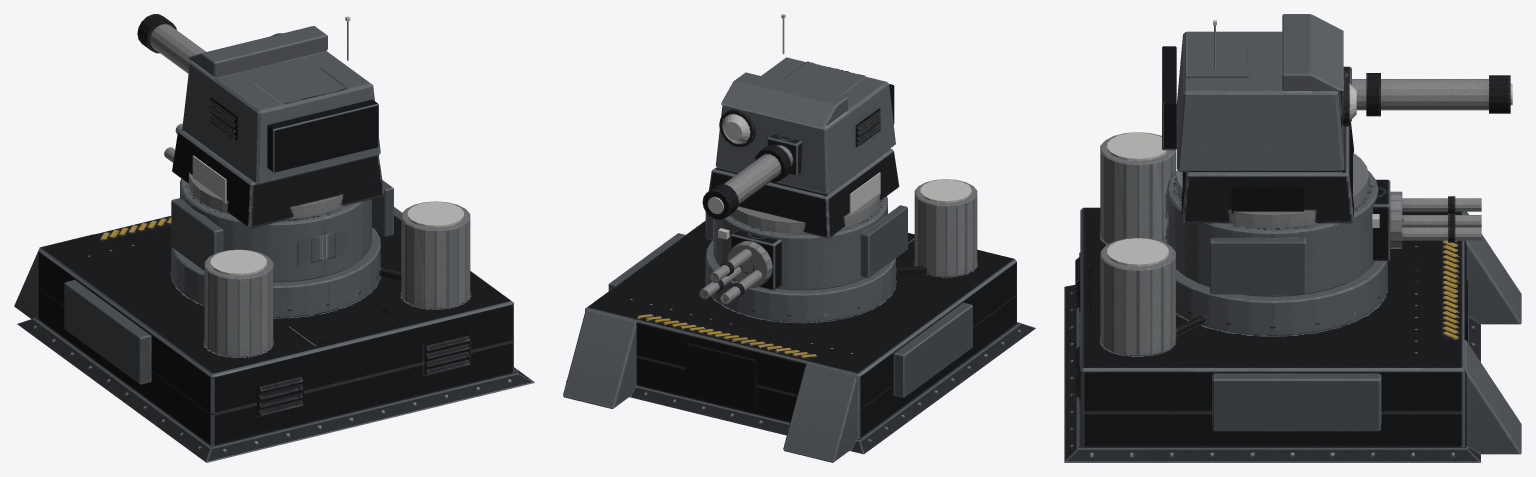
The model's file is chs_bulwark.fbx.
3 views of the same model, side by side, from view 1: azimuth 30°, elevation 25°; view 2: azimuth 150°, elevation 25°; view 3: azimuth 270°, elevation 25° (orthographic). The views are drawn at different scales.
Visible parts, largest first — view 1: base_bar, turret_bar, laser_bar, shell_bar, base_glow_power_bar, barrel_bar, shell_glow_running_bar; view 2: base_bar, turret_bar, laser_bar, shell_bar, barrel_bar, laser_drum_bar, laser_mount_bar, base_glow_power_bar, shell_glow_running_bar, turret_glow_power_bar; view 3: base_bar, turret_bar, laser_bar, shell_bar, barrel_bar, laser_drum_bar, base_glow_power_bar, laser_mount_bar.
Boxes of the visible parts, bbox=[...] form: base_bar: bbox=[14, 201, 534, 462]; turret_bar: bbox=[182, 21, 380, 184]; laser_bar: bbox=[171, 178, 393, 282]; shell_bar: bbox=[172, 129, 384, 228]; base_glow_power_bar: bbox=[210, 201, 463, 275]; barrel_bar: bbox=[137, 14, 205, 73]; shell_glow_running_bar: bbox=[192, 155, 226, 203]; base_bar: bbox=[563, 179, 1035, 462]; turret_bar: bbox=[715, 18, 895, 194]; laser_bar: bbox=[705, 196, 907, 290]; shell_bar: bbox=[709, 148, 899, 238]; barrel_bar: bbox=[702, 134, 802, 219]; laser_drum_bar: bbox=[699, 241, 772, 304]; laser_mount_bar: bbox=[730, 229, 781, 290]; base_glow_power_bar: bbox=[920, 179, 971, 202]; shell_glow_running_bar: bbox=[849, 172, 880, 213]; turret_glow_power_bar: bbox=[722, 114, 749, 143]; base_bar: bbox=[1064, 132, 1521, 462]; turret_bar: bbox=[1162, 14, 1349, 171]; laser_bar: bbox=[1165, 170, 1378, 296]; shell_bar: bbox=[1176, 122, 1368, 228]; barrel_bar: bbox=[1340, 66, 1510, 122]; laser_drum_bar: bbox=[1390, 191, 1481, 248]; base_glow_power_bar: bbox=[1107, 132, 1168, 266]; laser_mount_bar: bbox=[1373, 179, 1390, 260].
Size of the model in its own units: 1733 by 1936 by 1903.
Materials: 2 (2 with a texture image).
